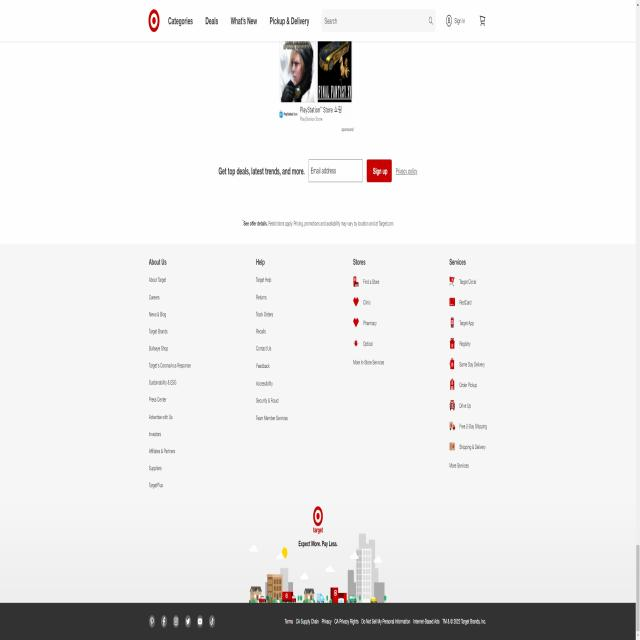menu-bar: (442, 5, 490, 35)
search: (320, 4, 437, 36)
tab-bar: (147, 5, 311, 34)
